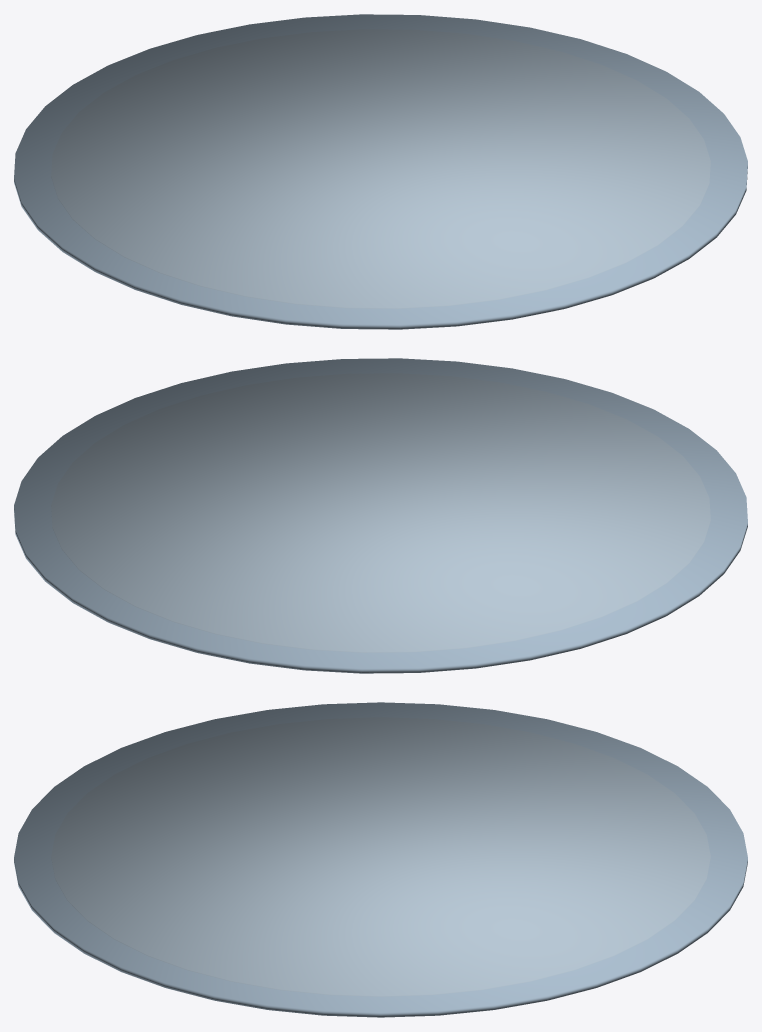
File: rugRound.glb
3 renders of one model, top to bottom at view 1: azimuth 30°, elevation 25°; view 2: azimuth 150°, elevation 25°; view 3: azimuth 270°, elevation 25°, orthographic.
Visible parts, largest first — view 1: rugRound; view 2: rugRound; view 3: rugRound.
Boxes of the visible parts, x1,y1,x2,y2 form: rugRound: [14, 14, 747, 329]; rugRound: [14, 358, 747, 673]; rugRound: [14, 702, 747, 1017].
Size of the model in its own units: 1.58 by 0.014 by 1.58.
